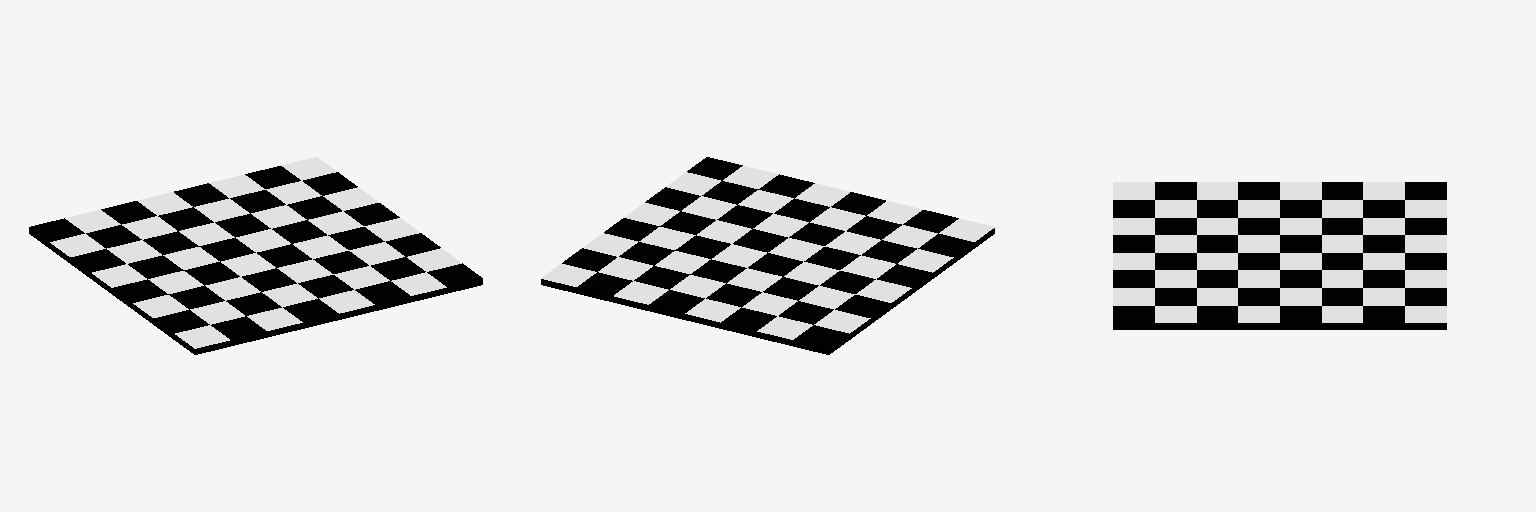
The model's file is Floor.obj.
3 renders of one model, left to right at view 1: azimuth 30°, elevation 25°; view 2: azimuth 150°, elevation 25°; view 3: azimuth 270°, elevation 25°, orthographic.
Visible parts, largest first — view 1: group[number redacted]; view 2: group[number redacted]; view 3: group[number redacted].
Boxes of the visible parts, <box> form: group[number redacted]: <box>29,157,482,354</box>; group[number redacted]: <box>541,157,994,354</box>; group[number redacted]: <box>1113,182,1446,329</box>.
Size of the model in its own units: 0.96 by 0.02 by 0.96.